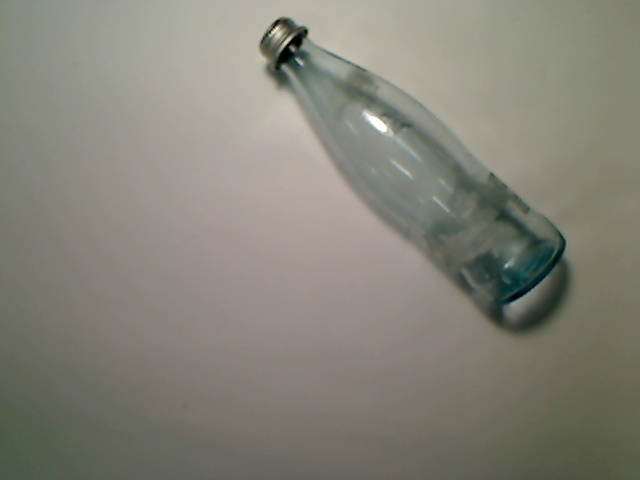bottle: (258, 17, 567, 306)
